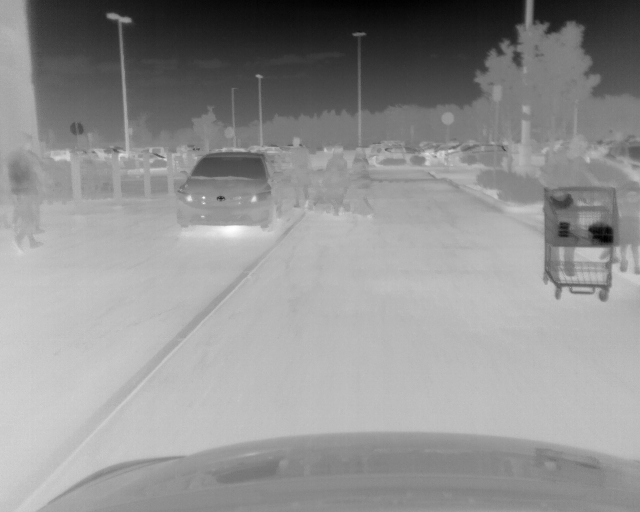car: (174, 152, 278, 231), (445, 144, 506, 165), (379, 147, 431, 163)
people: (540, 136, 598, 278), (6, 131, 44, 252), (619, 183, 640, 275), (352, 146, 375, 218), (288, 136, 310, 209), (325, 144, 347, 217), (600, 185, 619, 266)
